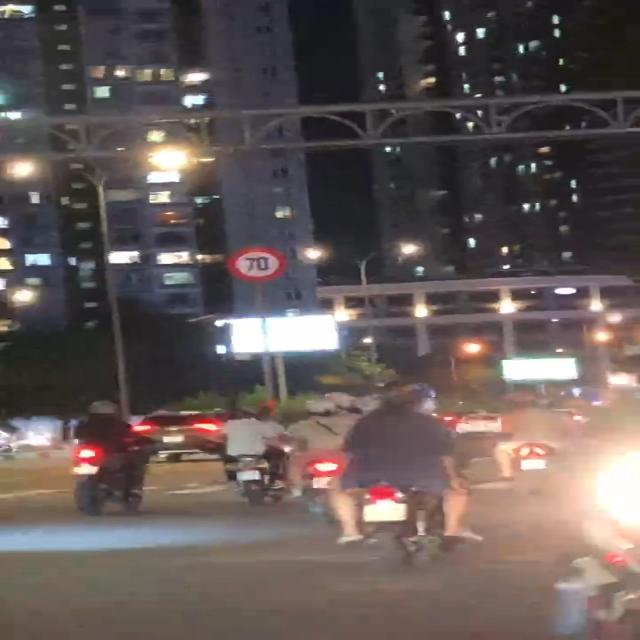Bien bao toc do toi da cho phep: (228, 245, 288, 281)
